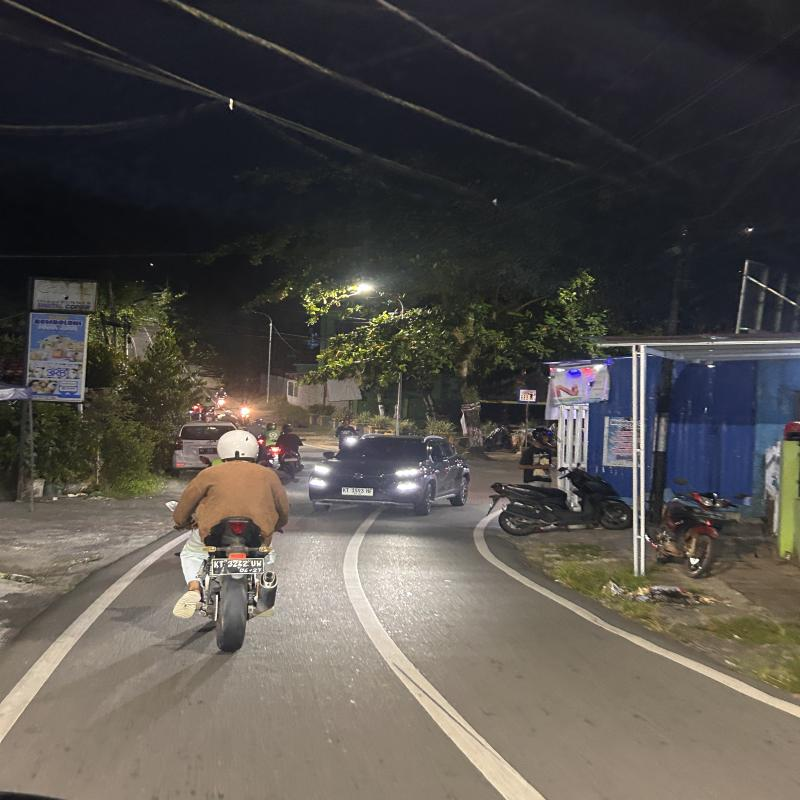license plate on a car: (342, 486, 374, 496)
